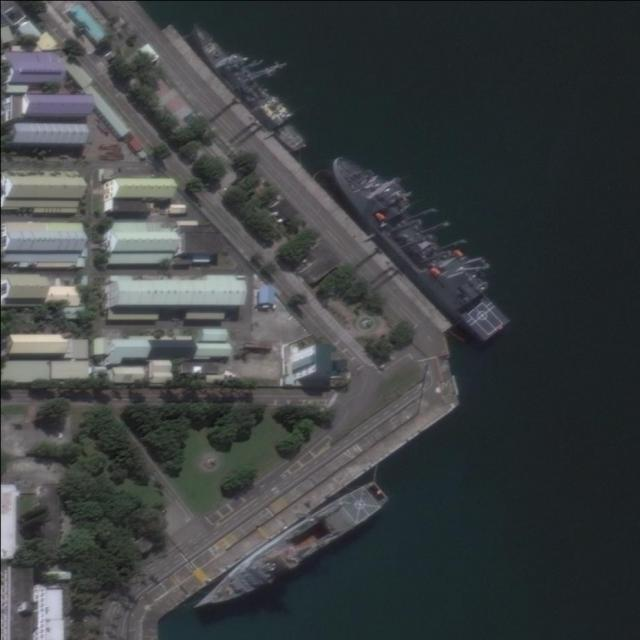Commander: (317, 129, 528, 351)
Other Warship: (185, 472, 394, 629)
